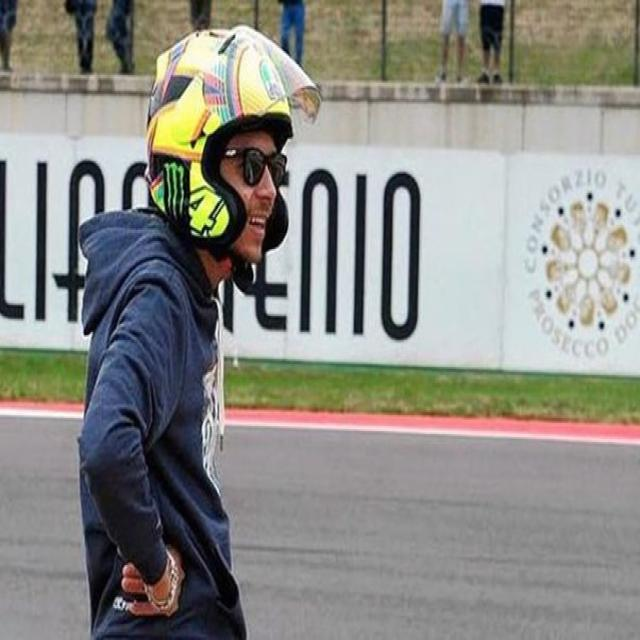Helm: (144, 26, 321, 259)
